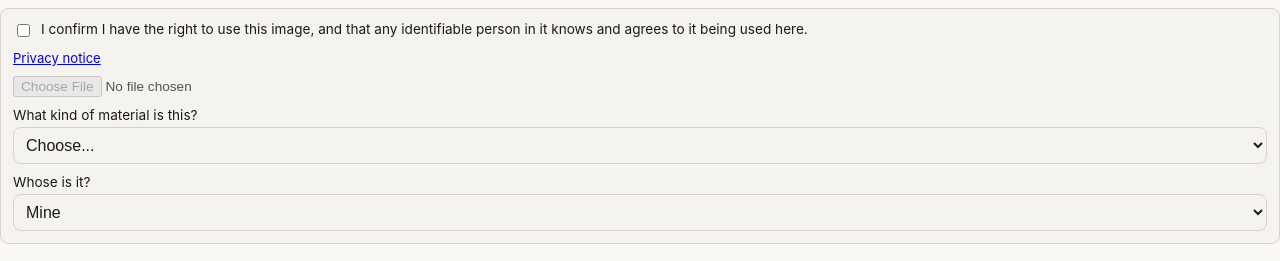
Scenario: ReferenceAttachment -- third-party photo rights checkbox › the file input is disabled until the rights checkbox is checked
The image size is (1280, 261).
Expected: the file field named "Attach a reference for a small compass rose" is disabled, [13,76,1267,97]
Click the checkbox labelled "I confirm I have the right to use this image" at {"x": 24, "y": 30}, box [17,24,30,37]
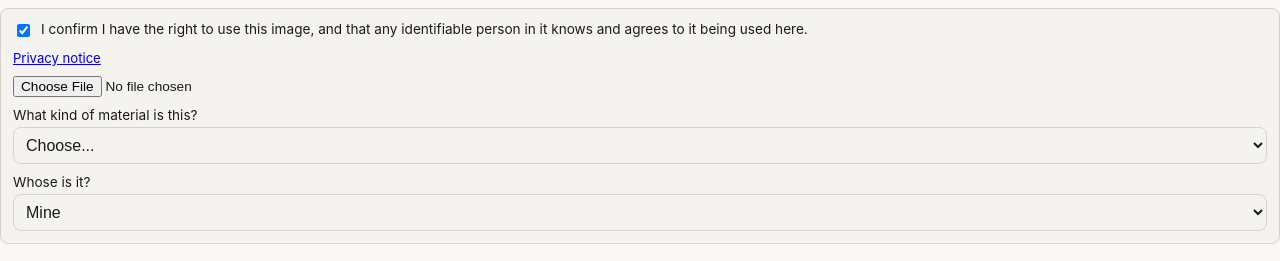
Now the file field named "Attach a reference for a small compass rose" is enabled, box [13,76,1267,97]
